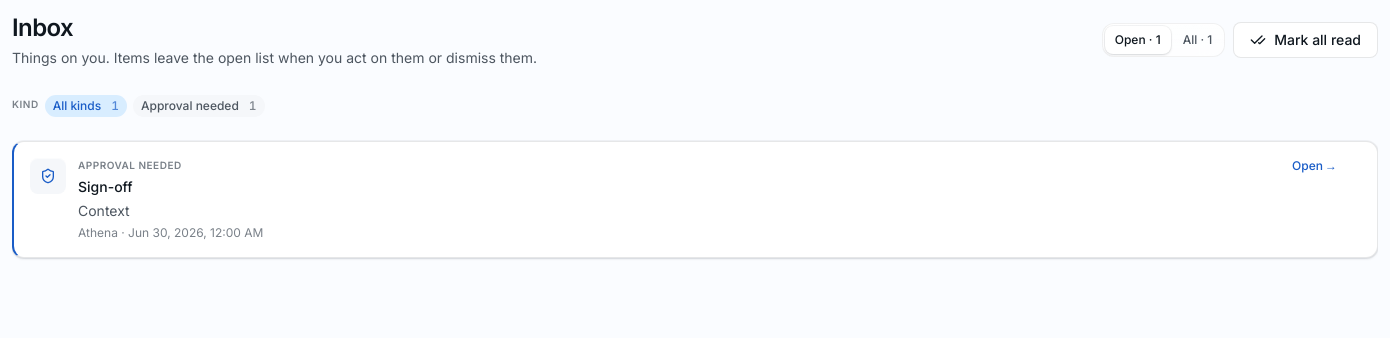
Scenario: InboxPage › click navigates to the task cockpit and dismisses from the open view
Click the button labelled "Sign-off" at (695, 199), box [12,141,1378,258]
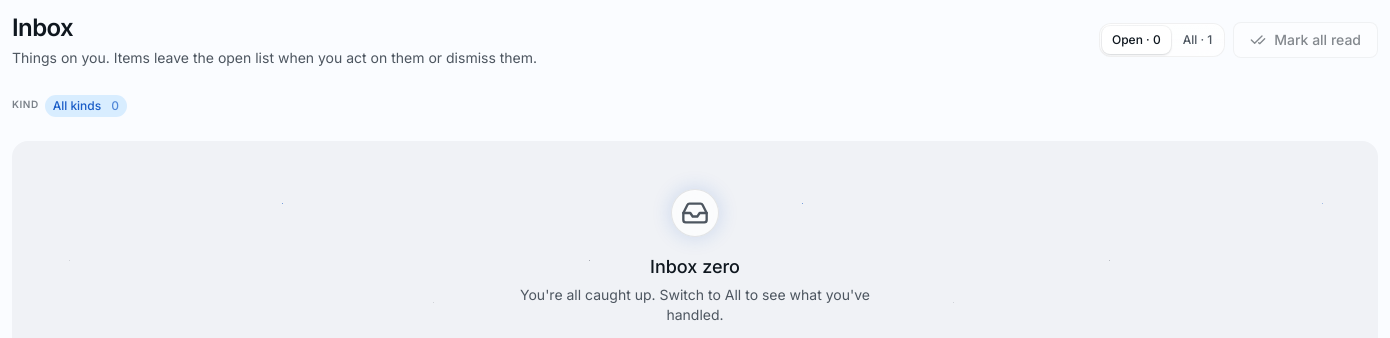
expect the button "Sign-off" is gone: met
